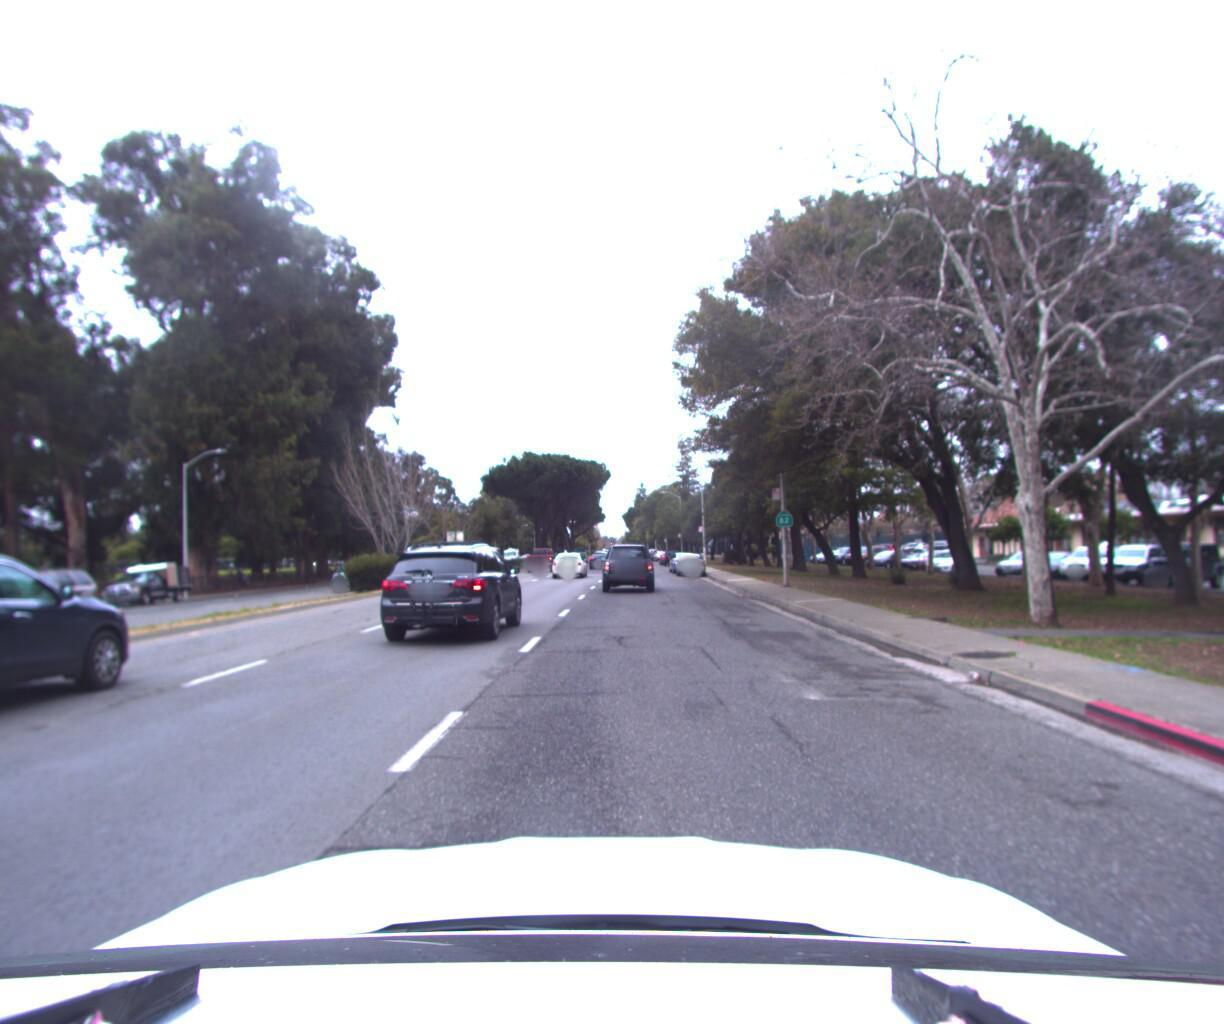car: (0, 543, 152, 789), (358, 533, 524, 653), (0, 561, 108, 647), (88, 560, 199, 612), (0, 558, 35, 724), (598, 539, 658, 593), (327, 549, 383, 591), (555, 542, 593, 577), (523, 544, 558, 571), (672, 545, 707, 573), (667, 545, 698, 568), (584, 546, 611, 567), (661, 543, 682, 560)
